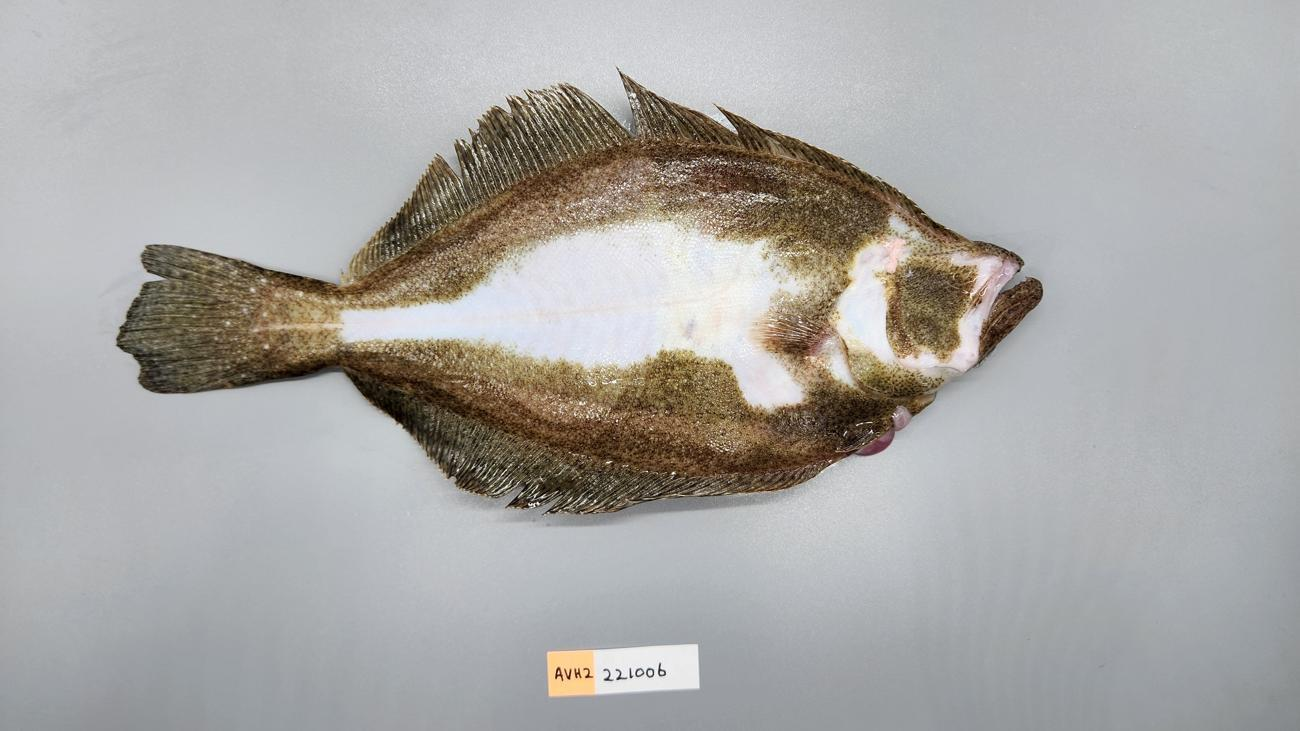VIDYH: (762, 316, 823, 357)
VIOUY: (115, 70, 1042, 512)
